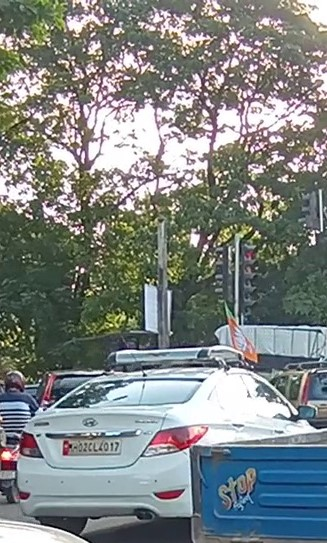MH02CL4017: (63, 437, 122, 455)
